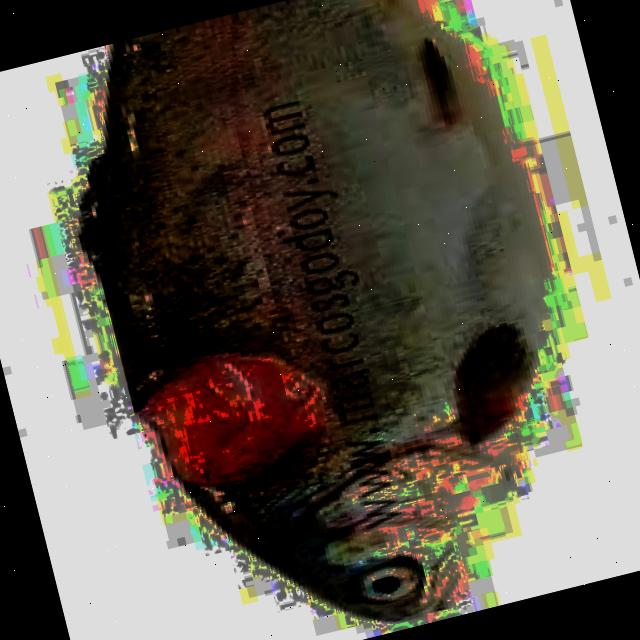Epizootic Ulcerative Syndrome -EUS-: (79, 0, 538, 620), (80, 0, 528, 620)
